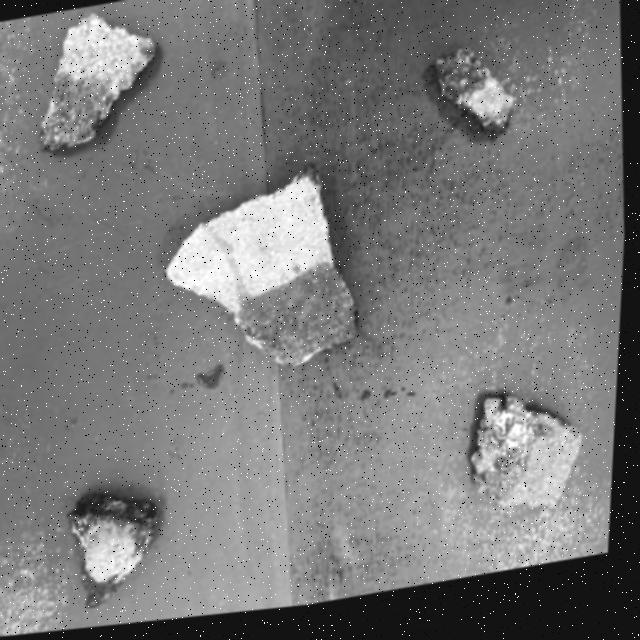Road Debris: (237, 268, 365, 380), (484, 404, 552, 514), (46, 76, 115, 155), (69, 496, 162, 554), (429, 52, 493, 120), (87, 572, 135, 614)
